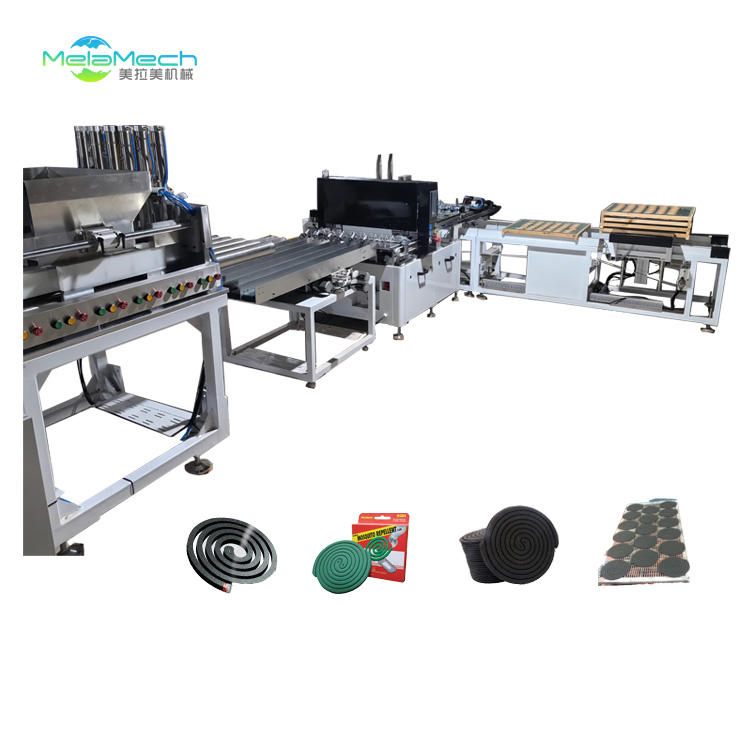Open-Flame-Hazard: (455, 473, 564, 599), (183, 503, 278, 609), (305, 526, 387, 619)
